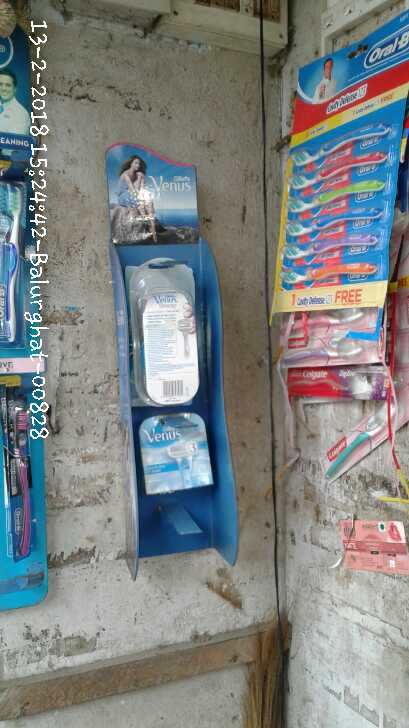beauty: (131, 409, 219, 492)
pharmacy: (2, 379, 37, 563)
